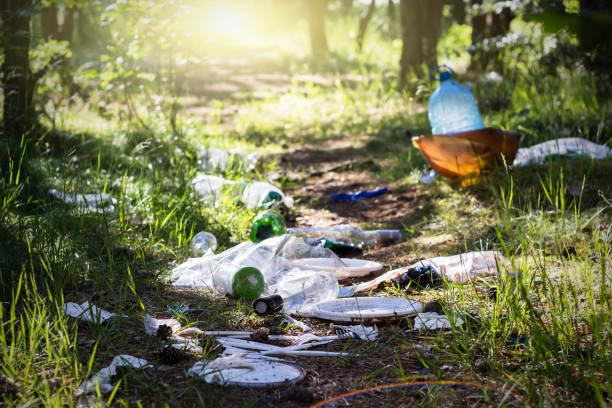trash: (173, 224, 357, 319), (401, 119, 538, 193), (174, 317, 302, 388), (375, 252, 528, 295), (311, 287, 432, 335), (511, 131, 612, 176), (191, 170, 279, 219), (424, 67, 484, 135), (81, 347, 150, 401), (297, 242, 384, 281), (328, 218, 410, 256), (48, 187, 126, 223), (316, 178, 397, 207), (405, 311, 480, 342), (143, 303, 189, 350), (172, 222, 223, 264), (242, 209, 294, 250), (197, 146, 260, 177), (224, 262, 263, 305), (75, 296, 126, 328), (250, 292, 291, 314)
